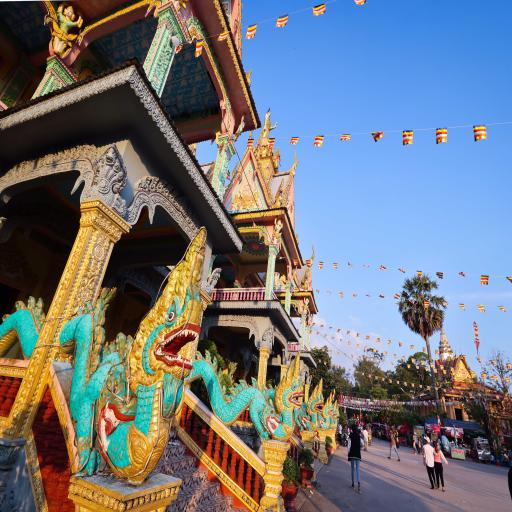ran: (93, 236, 208, 484), (214, 376, 307, 442), (298, 385, 325, 432), (318, 397, 334, 429), (274, 182, 284, 207), (330, 405, 338, 427), (302, 270, 310, 290), (273, 150, 281, 168), (335, 408, 342, 426)
than: (258, 110, 278, 144), (272, 217, 284, 245), (234, 122, 246, 140), (302, 298, 310, 315)
